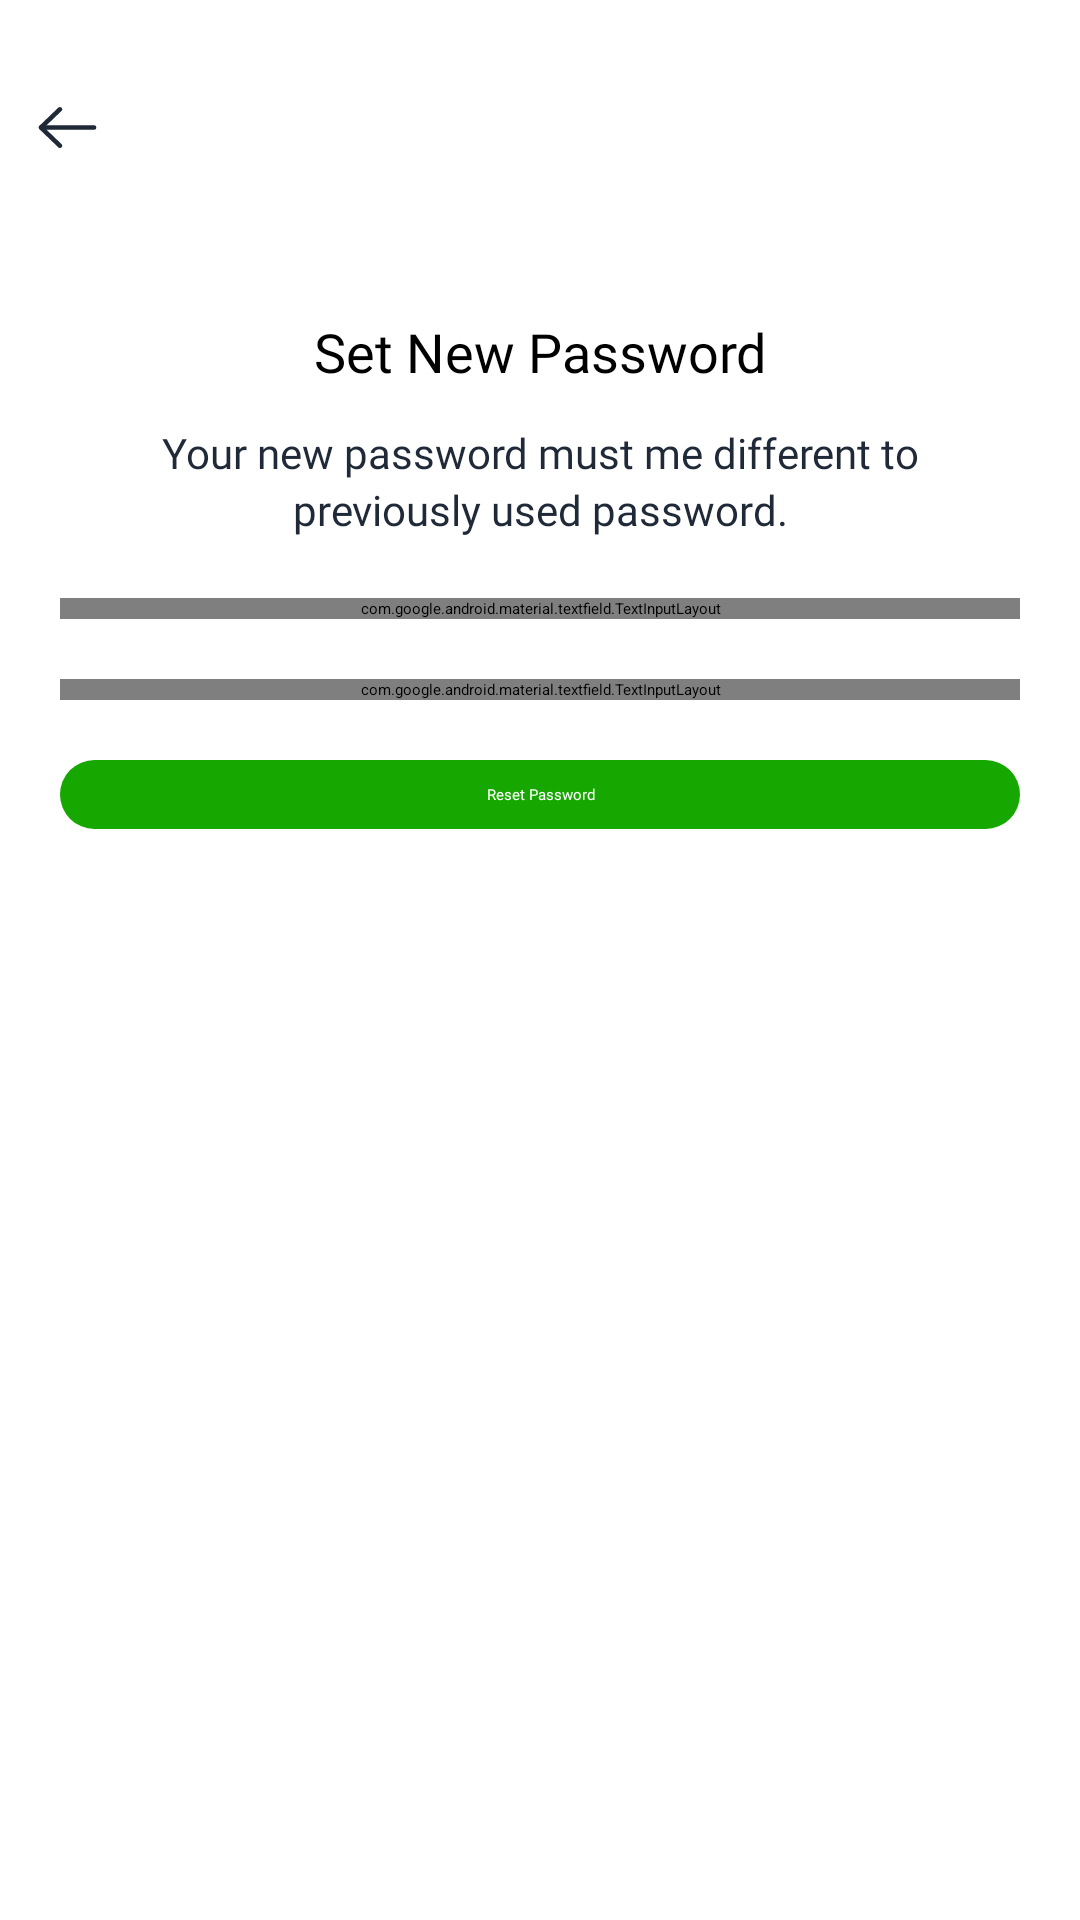

Icon bounding boxes for this 1080×1920 phone screenshot, format {"x1": x1, "y1": y1, "x2": x2, "y2": y2}:
back: {"x1": 38, "y1": 107, "x2": 97, "y2": 148}
